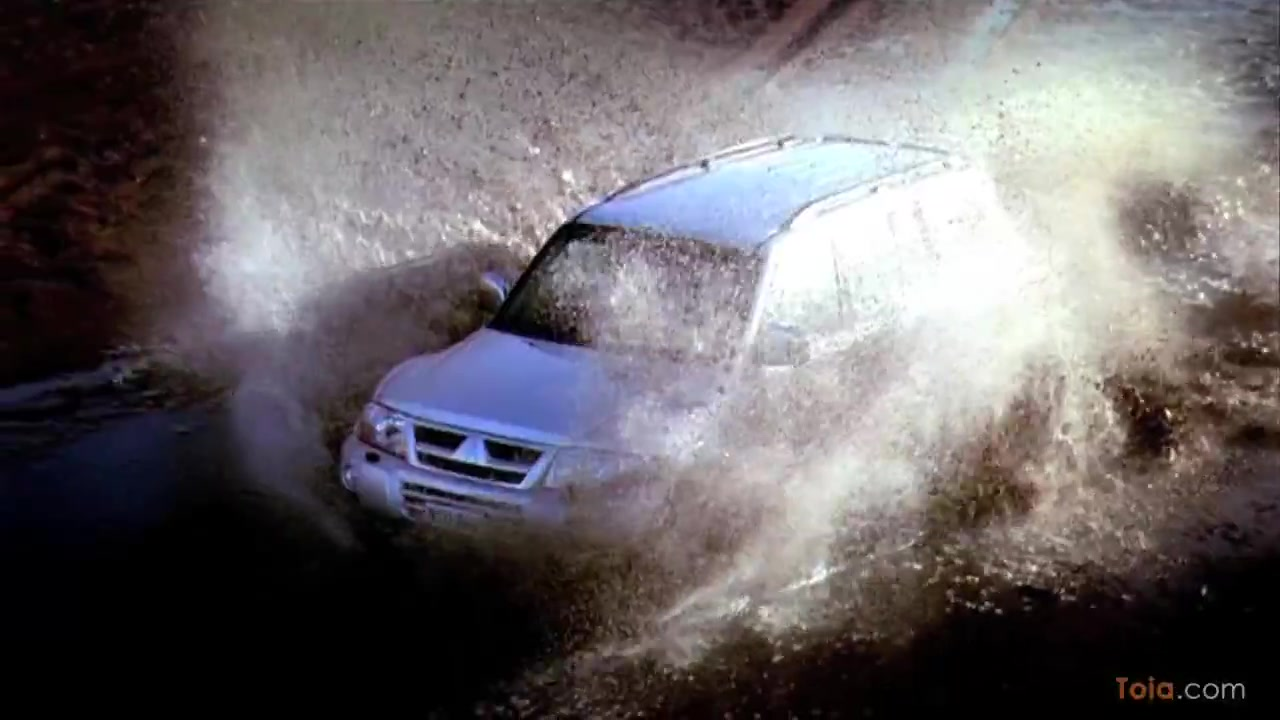car: (334, 125, 1072, 576)
